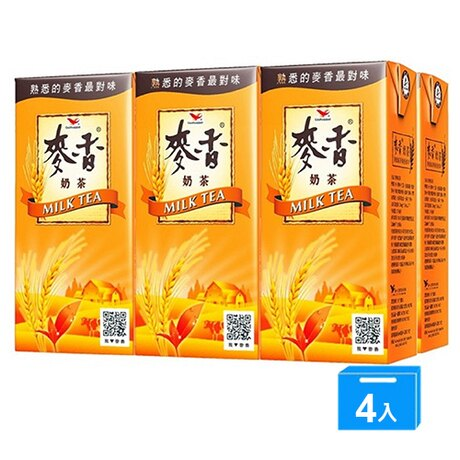milk tea: (259, 58, 419, 363), (129, 70, 257, 358), (14, 77, 135, 357)
